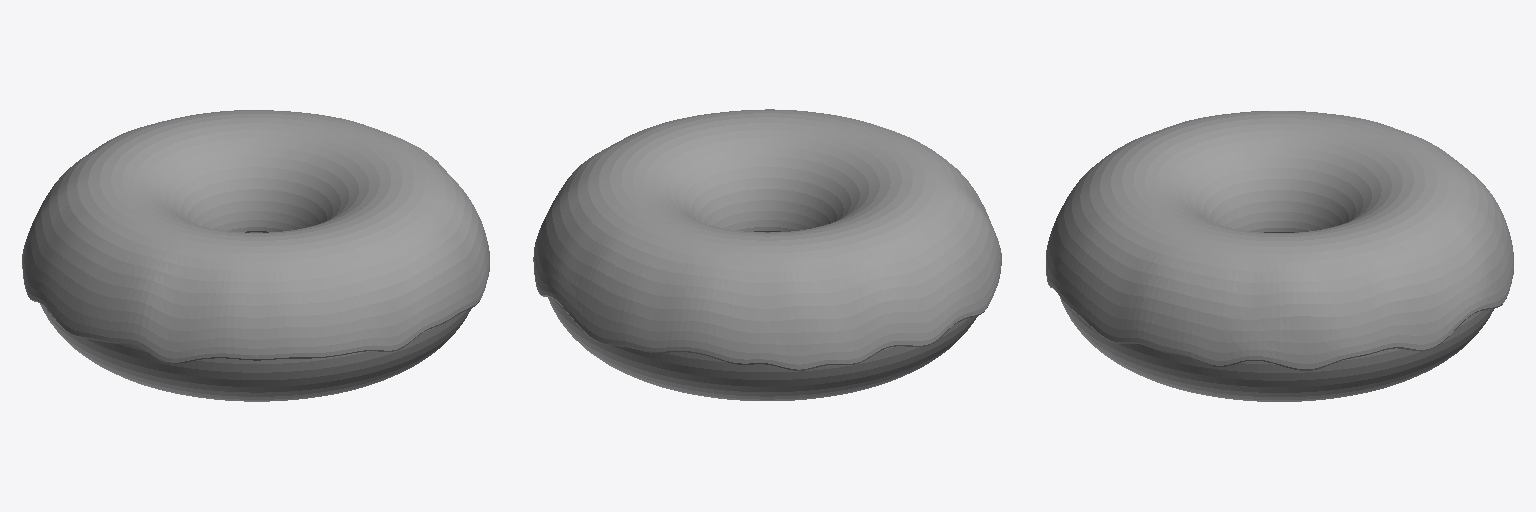
The model's file is donut.obj.
The picture shows the model from 3 angles: view 1: azimuth 30°, elevation 25°; view 2: azimuth 150°, elevation 25°; view 3: azimuth 270°, elevation 25°; orthographic projection.
Parts seen in each view (by area): view 1: Torus.000_Torus.005, Torus.001; view 2: Torus.000_Torus.005, Torus.001; view 3: Torus.000_Torus.005, Torus.001.
Part boxes in pixels (bbox=[...]): Torus.000_Torus.005: bbox=[22, 110, 489, 363]; Torus.001: bbox=[40, 232, 471, 401]; Torus.000_Torus.005: bbox=[533, 109, 1001, 370]; Torus.001: bbox=[548, 232, 977, 400]; Torus.000_Torus.005: bbox=[1046, 111, 1513, 370]; Torus.001: bbox=[1060, 298, 1493, 401].
Bounding box in the file's own units: 3.21 × 1.16 × 3.21.